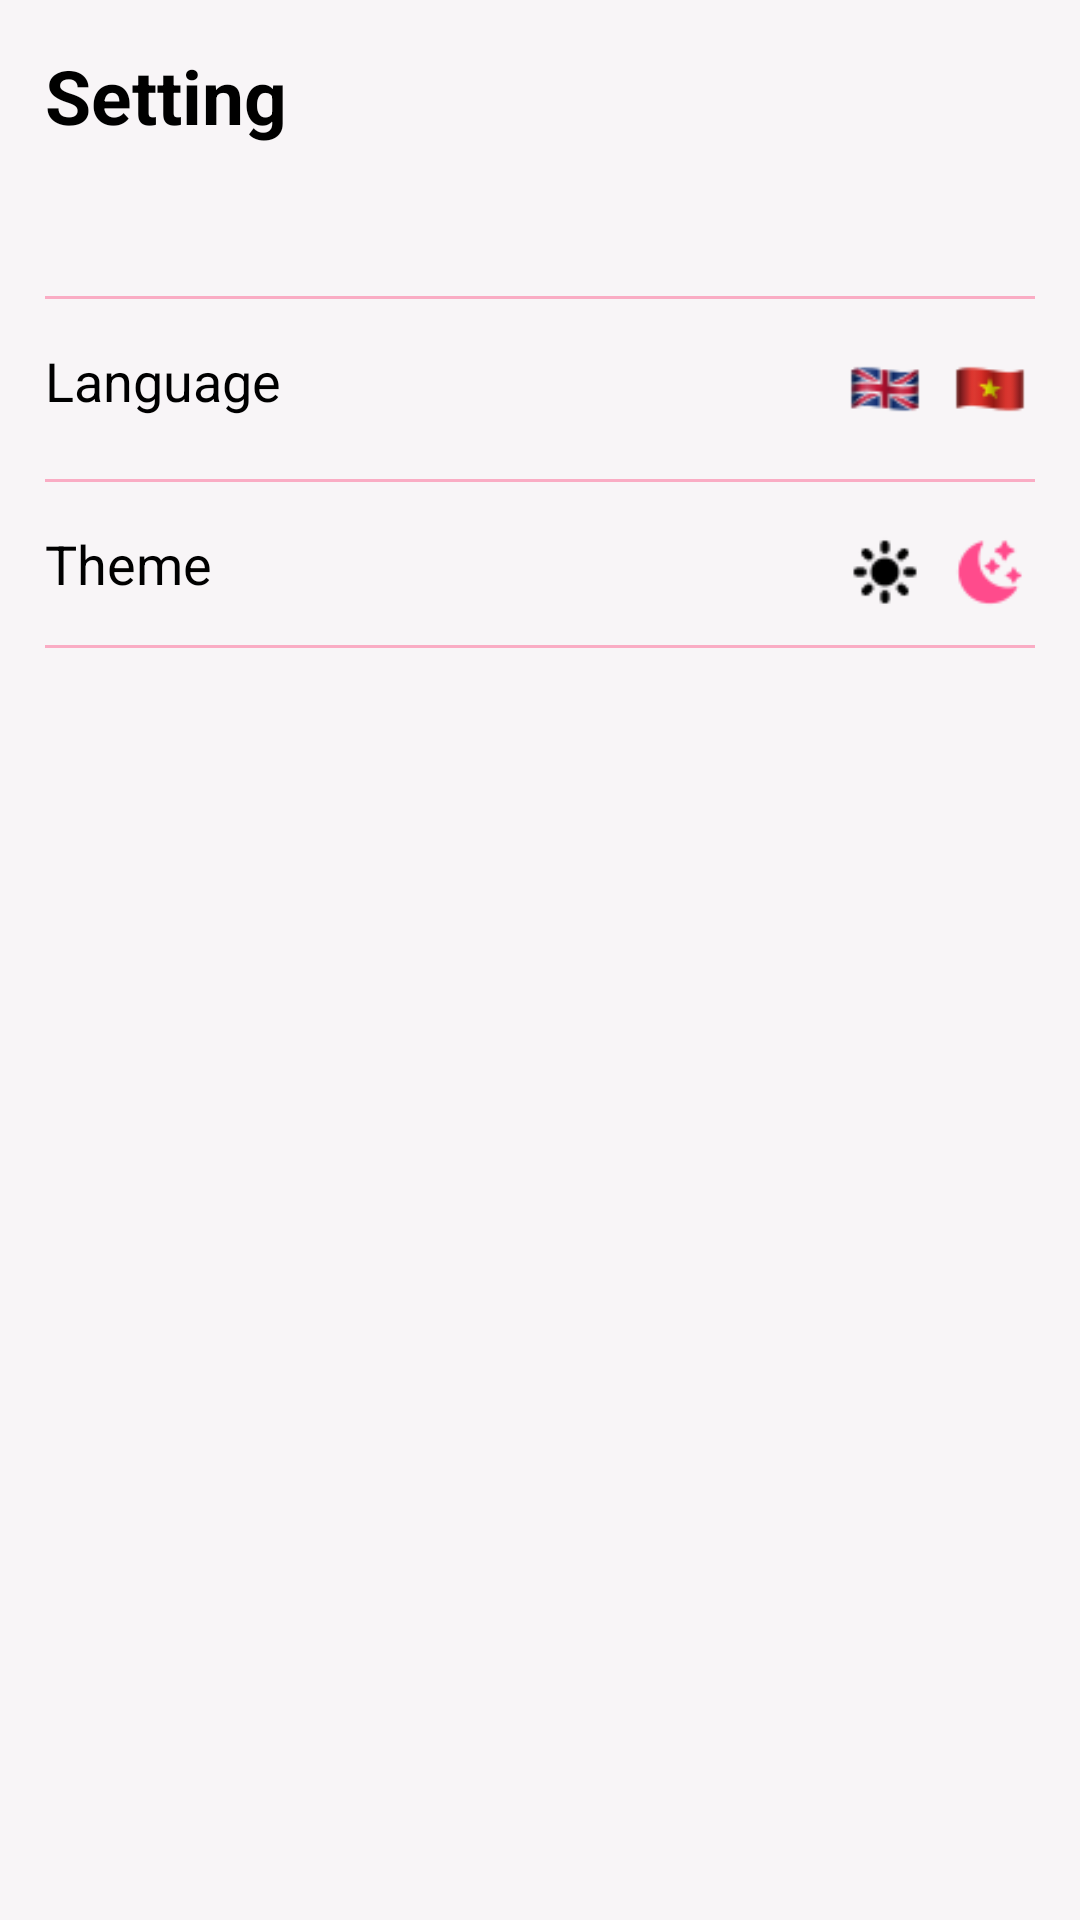

Named icons in this screenshot (1080x1920) and their centers, point (x, y):
england: point (885, 389)
sun: point (885, 572)
vietnam: point (990, 389)
